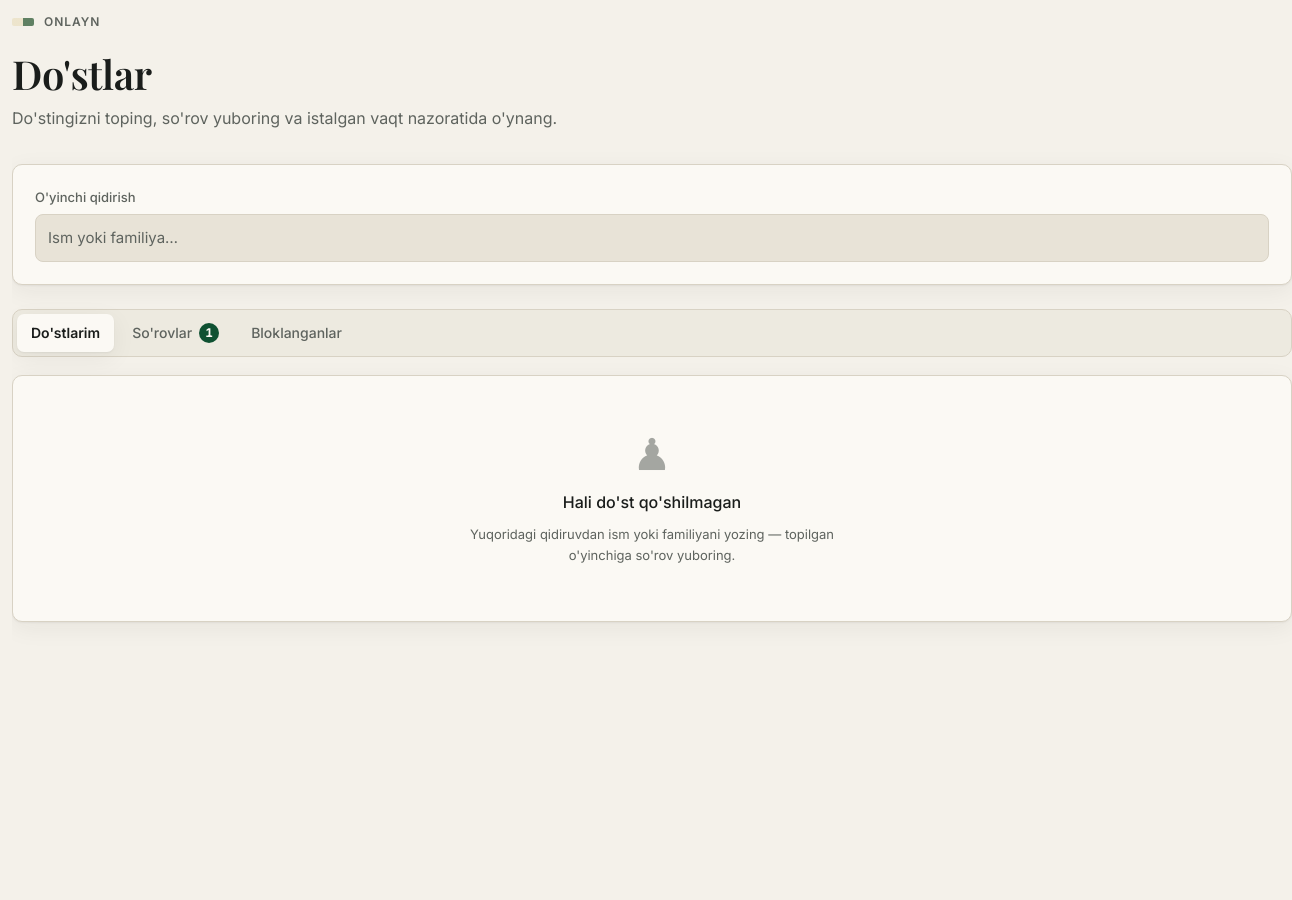
Test: do`stlar sahifasi › KELGAN va YUBORILGAN so`rovlar ajratiladi
The image size is (1292, 900).
Click the tab "So'rovlar 1". click: click(176, 333)
box: [118,314,233,352]
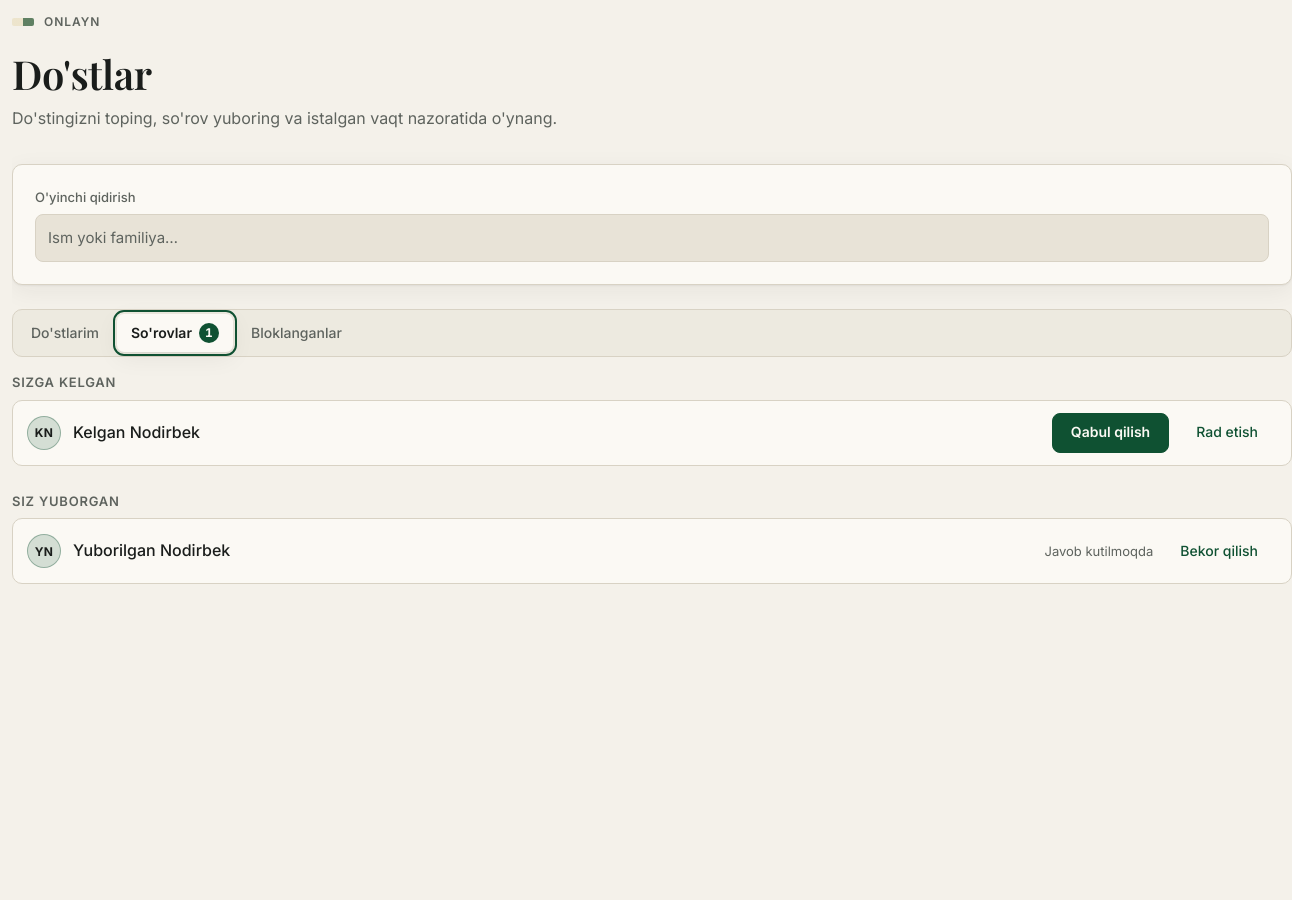
Expected: the heading "Sizga kelgan" is shown, [12,374,116,390]
Expected: the heading "Siz yuborgan" is shown, [12,493,120,509]
Expected: the number of buttons "Qabul qilish" is 1, [1052,413,1169,453]
